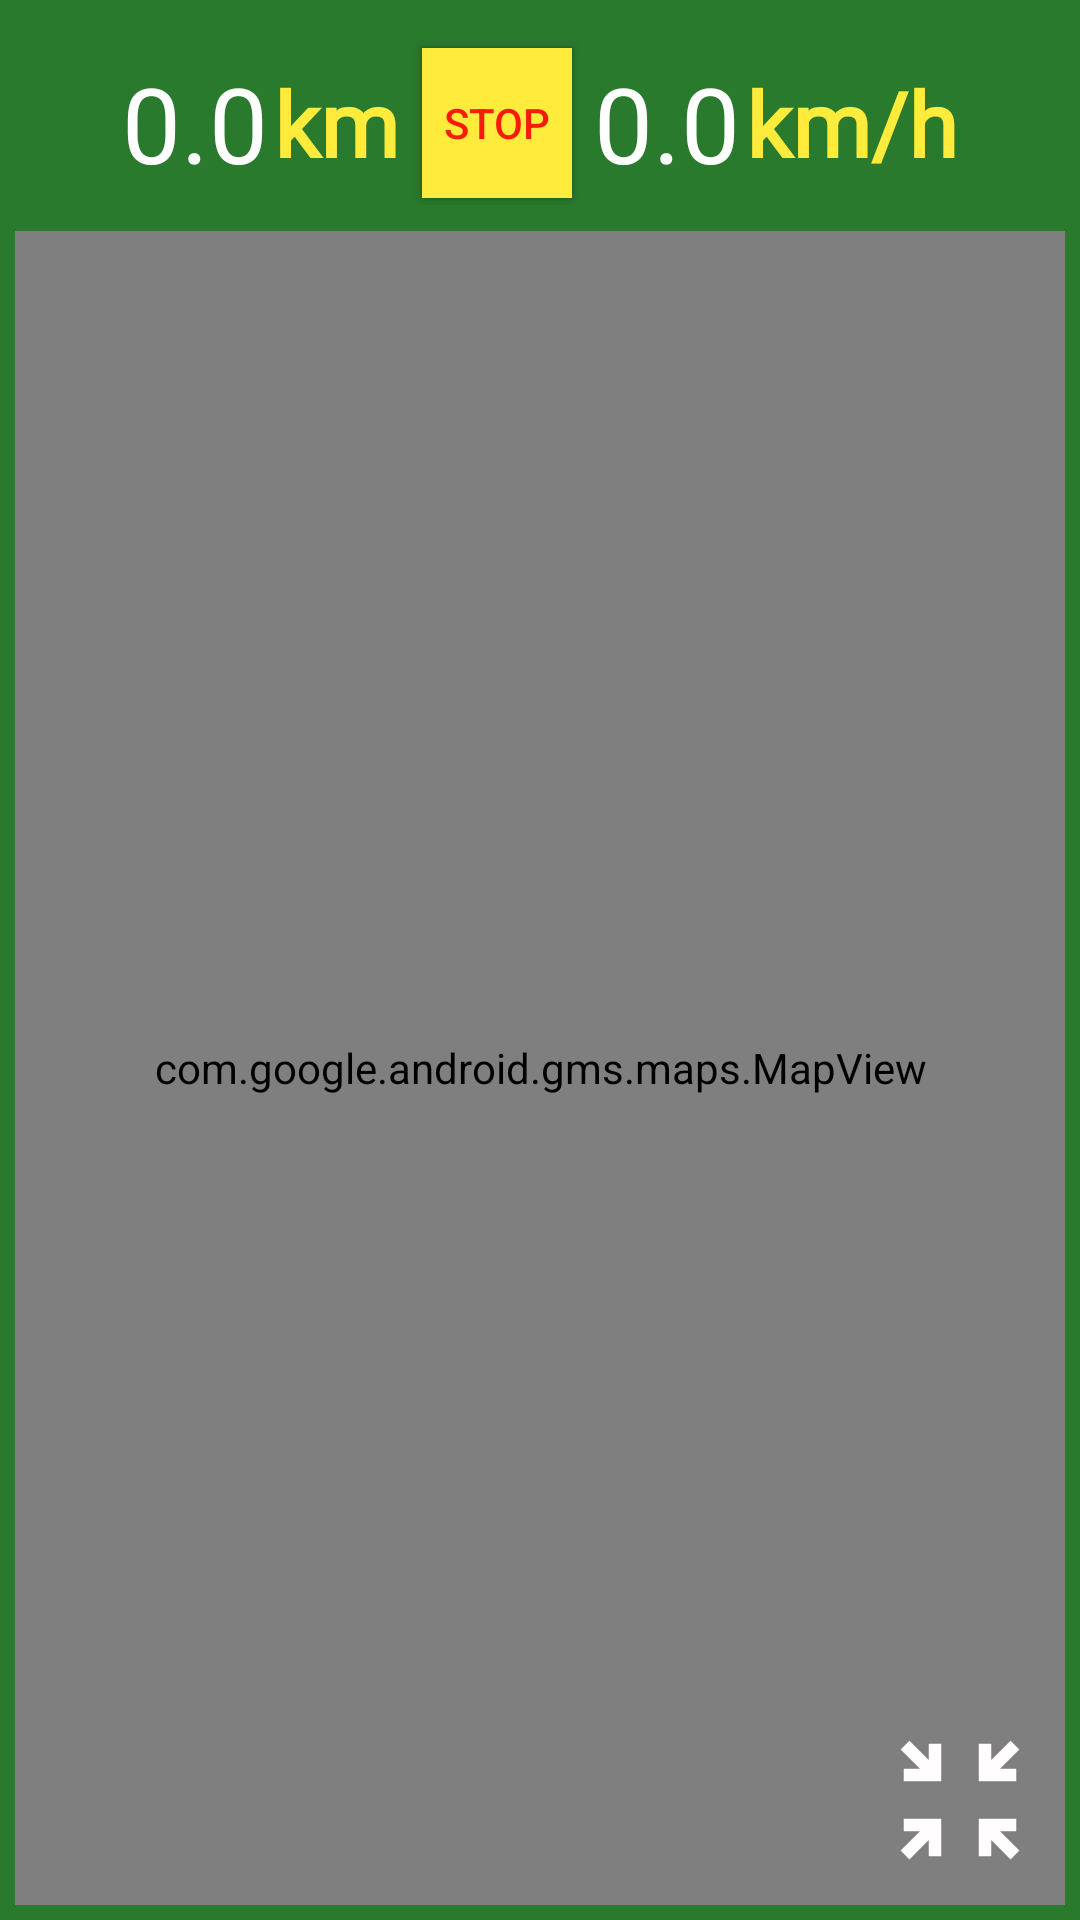

Named icons in this screenshot (1080*1920) and their centers, (x,y):
zoom: (960,1800)
